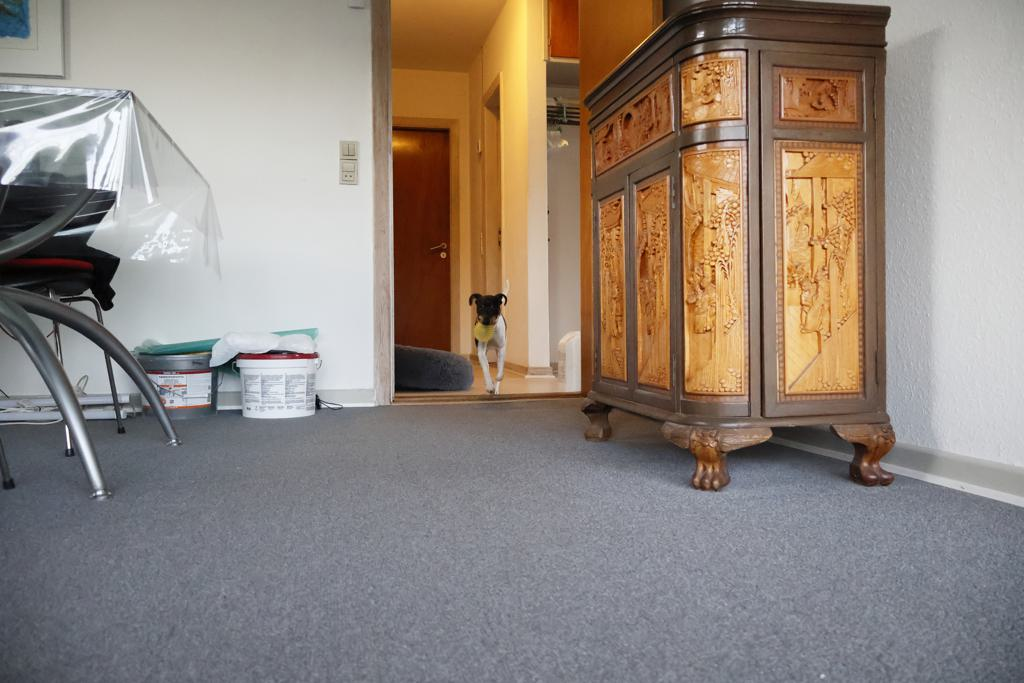Dog: (462, 275, 519, 401)
